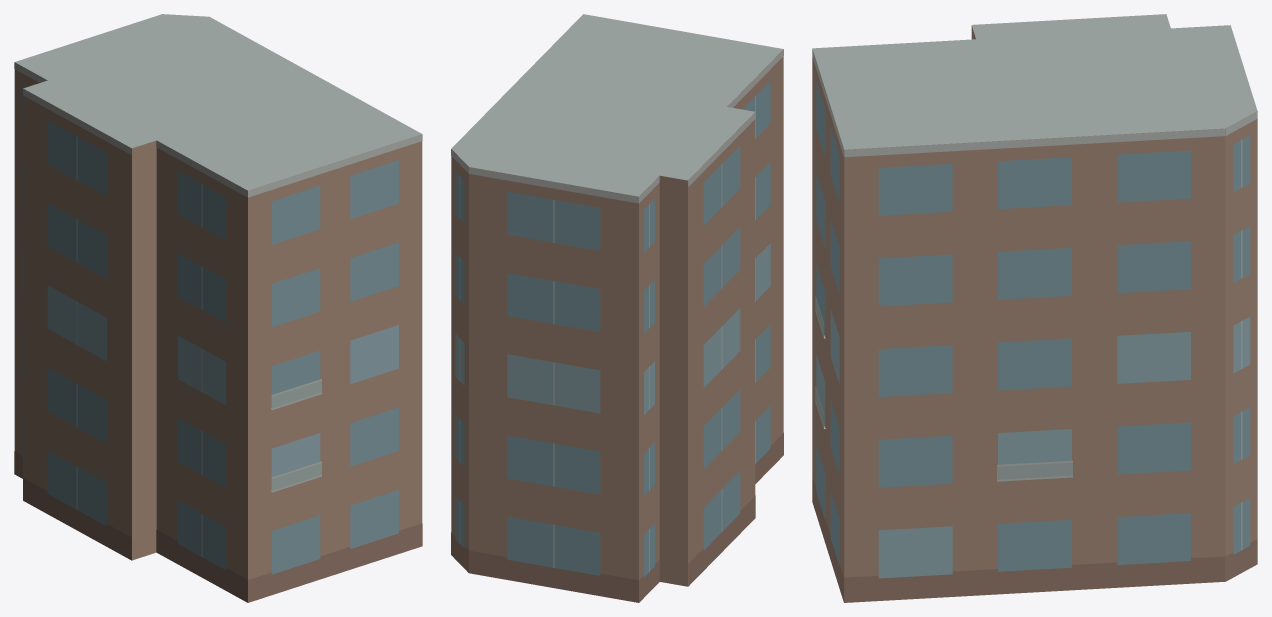
The model's file is survey-upis-32742066.glb.
3 renders of one model, left to right at view 1: azimuth 30°, elevation 25°; view 2: azimuth 150°, elevation 25°; view 3: azimuth 270°, elevation 25°, orthographic. The views are drawn at different scales.
Visible parts, largest first — view 1: survey-upis-32742066.tmp; view 2: survey-upis-32742066.tmp; view 3: survey-upis-32742066.tmp.
Part boxes in pixels (bbox=[...]): survey-upis-32742066.tmp: bbox=[14, 14, 422, 602]; survey-upis-32742066.tmp: bbox=[451, 14, 783, 602]; survey-upis-32742066.tmp: bbox=[812, 14, 1257, 602].
Bounding box in the file's own units: 9.32 × 14.5 × 12.92.
